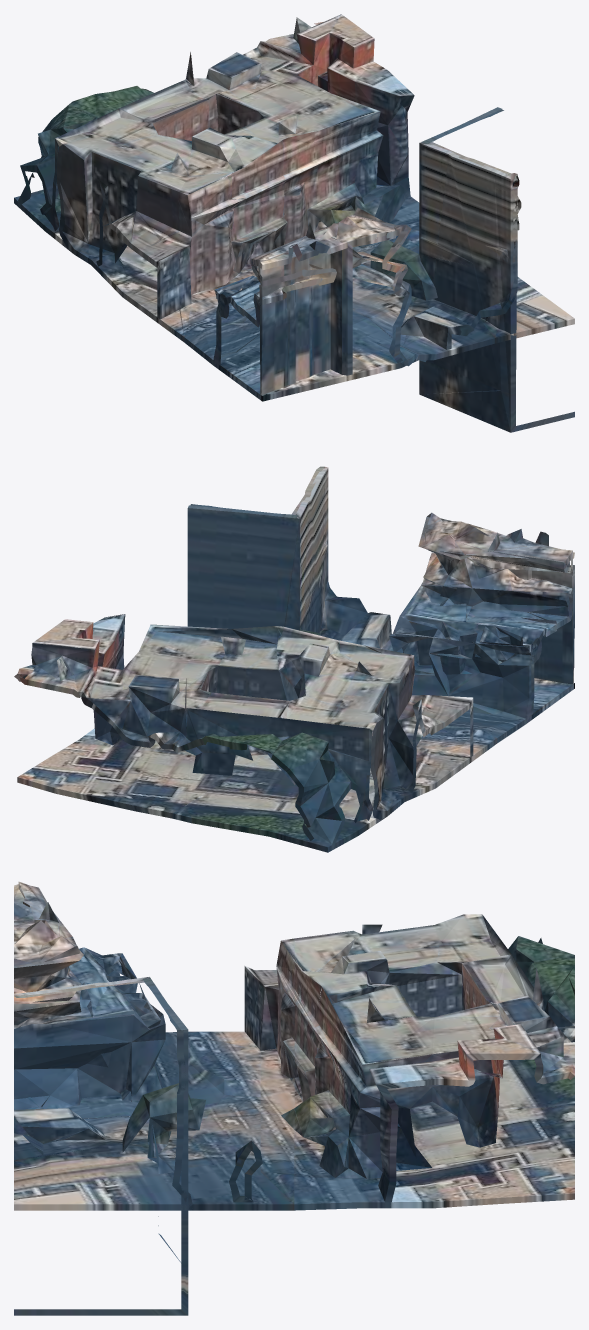
Rendered from chunk_-3_-8.glb.
The picture shows the model from 3 angles, top to bottom: view 1: azimuth 30°, elevation 25°; view 2: azimuth 150°, elevation 25°; view 3: azimuth 270°, elevation 25°; orthographic projection. The views are drawn at different scales.
Visible parts, largest first — view 1: hero-chunk; view 2: hero-chunk; view 3: hero-chunk.
Boxes of the visible parts, x1,y1,x2,y2 form: hero-chunk: (14,14,574,432); hero-chunk: (14,466,574,852); hero-chunk: (14,881,574,1315).
Bounding box in the file's own units: 56.04 × 43.89 × 76.32.
Materials: 1 (1 with a texture image).
